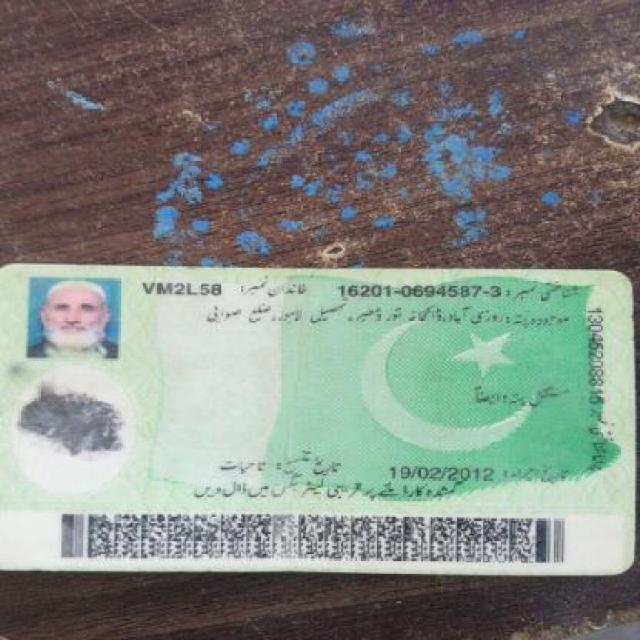Back: (9, 260, 628, 574)
